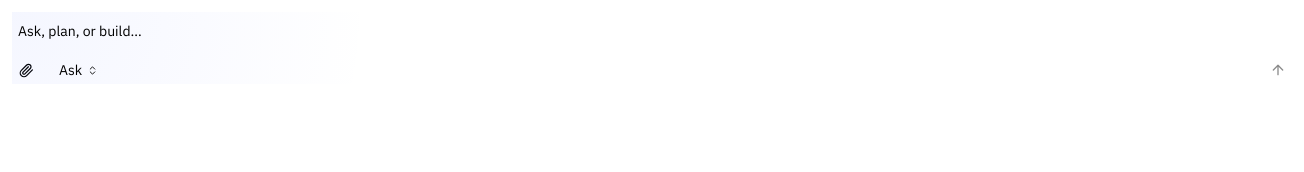
Test case: Composer › typing "/" opens the SlashMenu
In the text box with test id "composer-input": coordinates (652, 34) [12,12,1292,56], type "/rev"
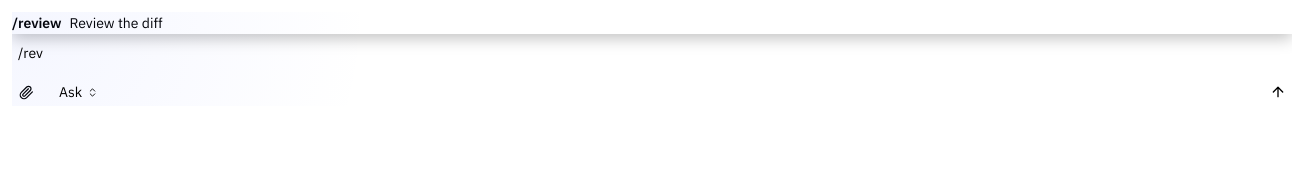
expect the text "/review" is shown: met, box [12,12,62,34]
